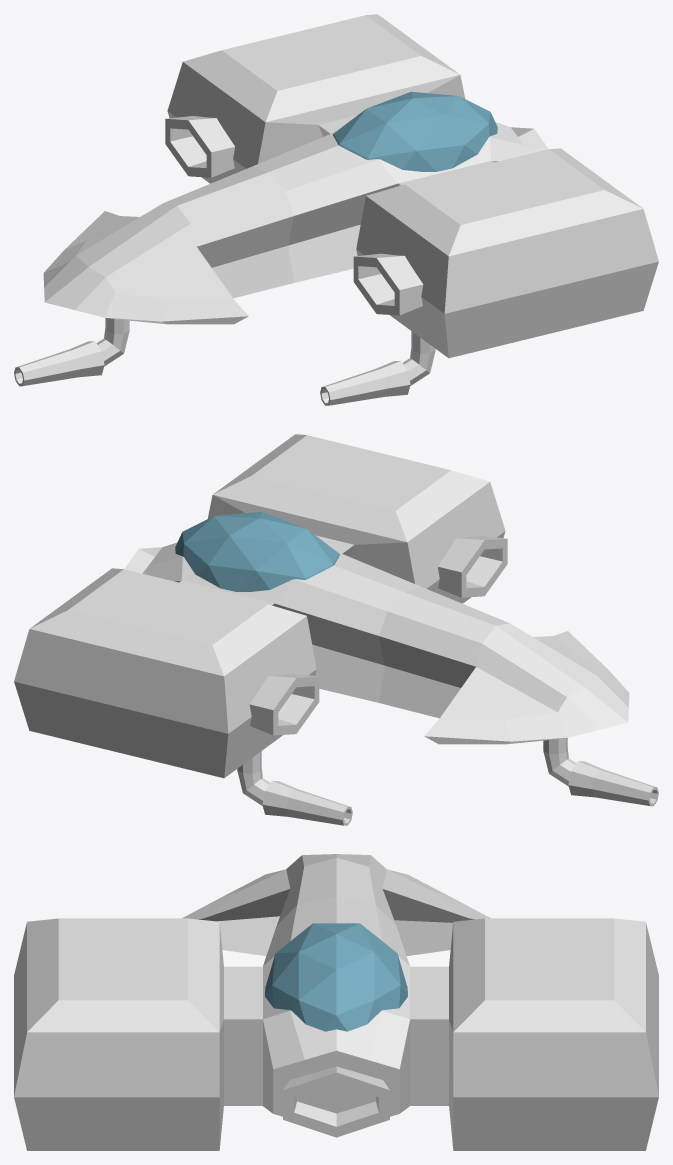
File: Ironsmith.fbx
The picture shows the model from 3 angles, top to bottom: view 1: azimuth 30°, elevation 25°; view 2: azimuth 150°, elevation 25°; view 3: azimuth 270°, elevation 25°; orthographic projection. The views are drawn at different scales.
Visible parts, largest first — view 1: Nave.001, Capsula.001, Cannons.001, Propulsores.001; view 2: Nave.001, Capsula.001, Cannons.001, Propulsores.001; view 3: Nave.001, Capsula.001.
Part boxes in pixels (box(x1,y1,x2,y2)): Nave.001: box(43, 14, 658, 358); Capsula.001: box(333, 91, 497, 171); Cannons.001: box(14, 318, 435, 405); Propulsores.001: box(165, 116, 423, 315); Nave.001: box(14, 434, 629, 778); Capsula.001: box(175, 511, 339, 591); Cannons.001: box(237, 738, 658, 825); Propulsores.001: box(249, 536, 507, 735); Nave.001: box(14, 854, 658, 1150); Capsula.001: box(265, 923, 407, 1031).
Size of the model in its own units: 529 by 199 by 493.
